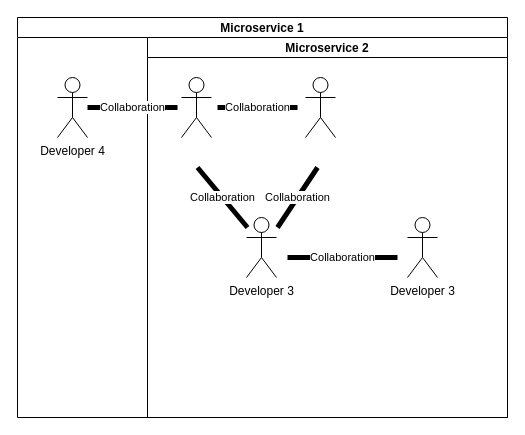
The diagram is 525 pixels wide and 435 high, and some of its shapes have lost their labels. Here are the shapes that lost their labels. From the top down, the centre of each, then its label:
At [196,107]: "Developer 1".
At [320,107]: "Developer 2".
